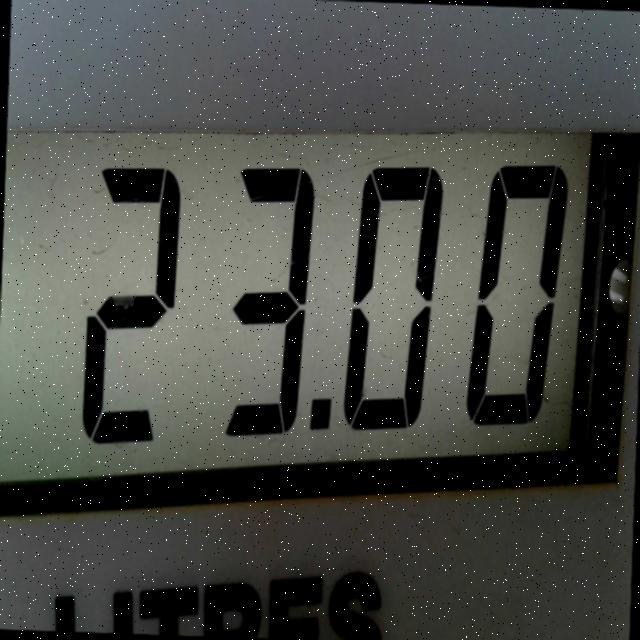.: (297, 381, 339, 457)
0: (461, 150, 576, 452), (333, 159, 448, 446)
2: (63, 146, 201, 456)
3: (210, 154, 319, 456)
